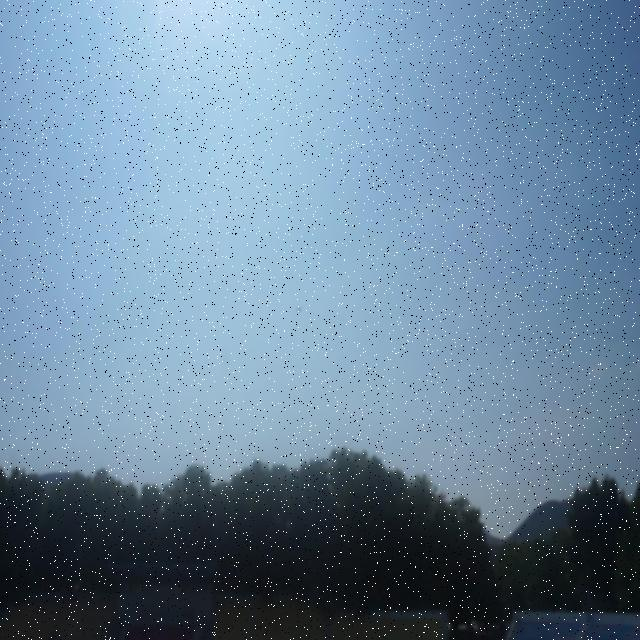UAV: (296, 307, 302, 312)
